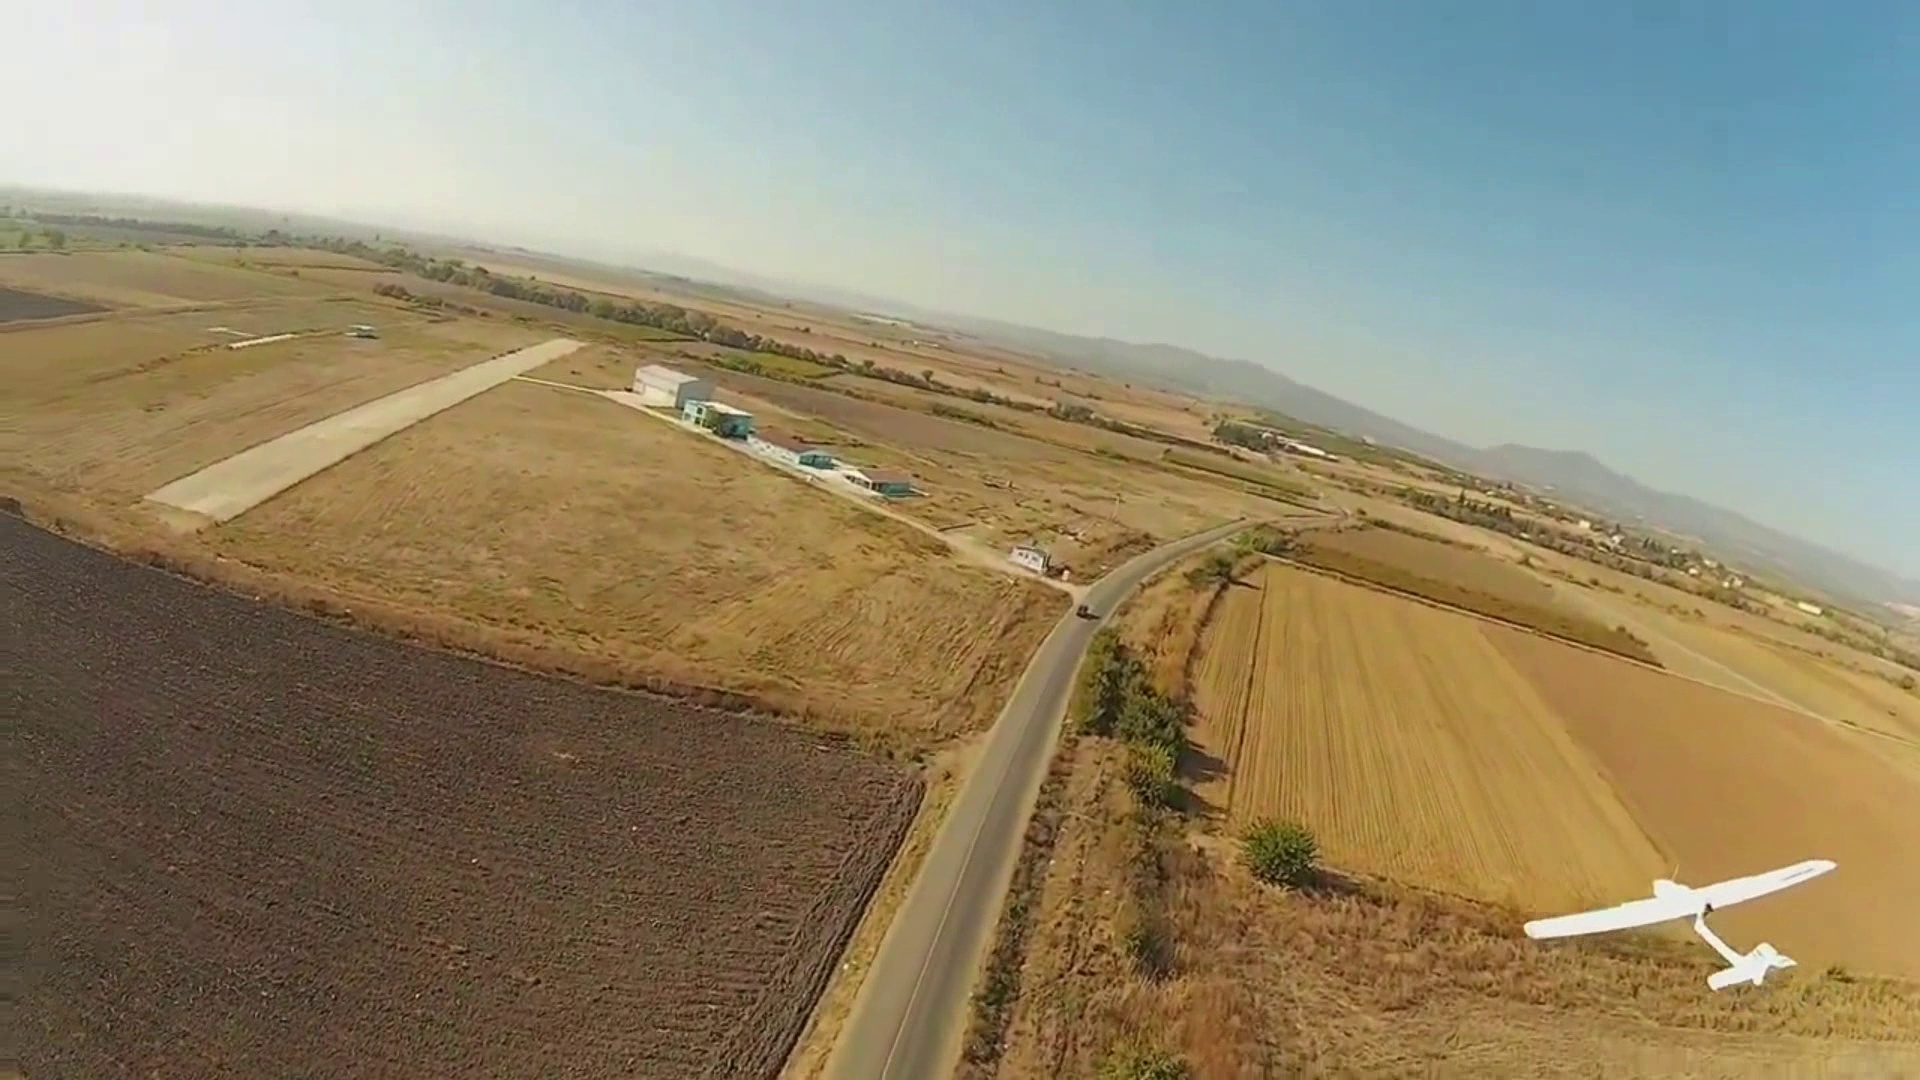airplane: (1524, 858, 1838, 996)
